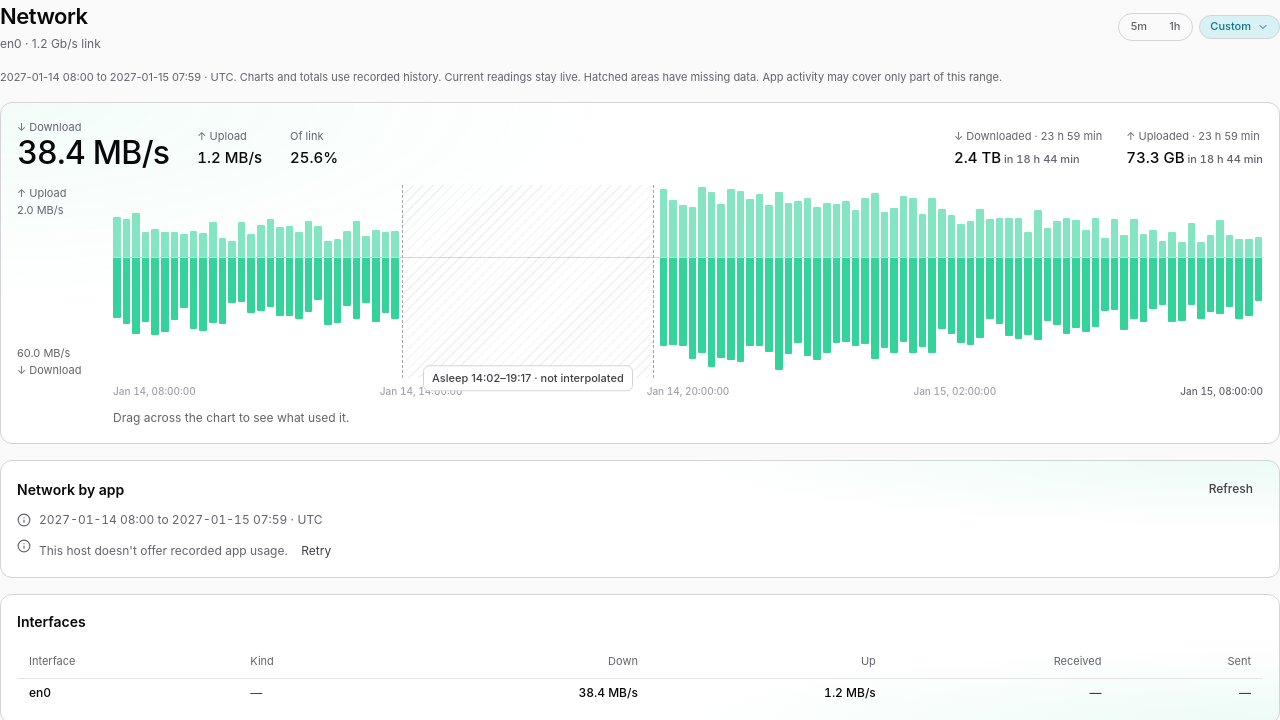
it: a historical remote failure stays explicit and Retry restores the same interval
Expected: the message "This host doesn't offer recorded app usage." is shown, [39,543,288,558]
Step 1. Click the button "Retry" → [316, 551], box [291,537,341,565]
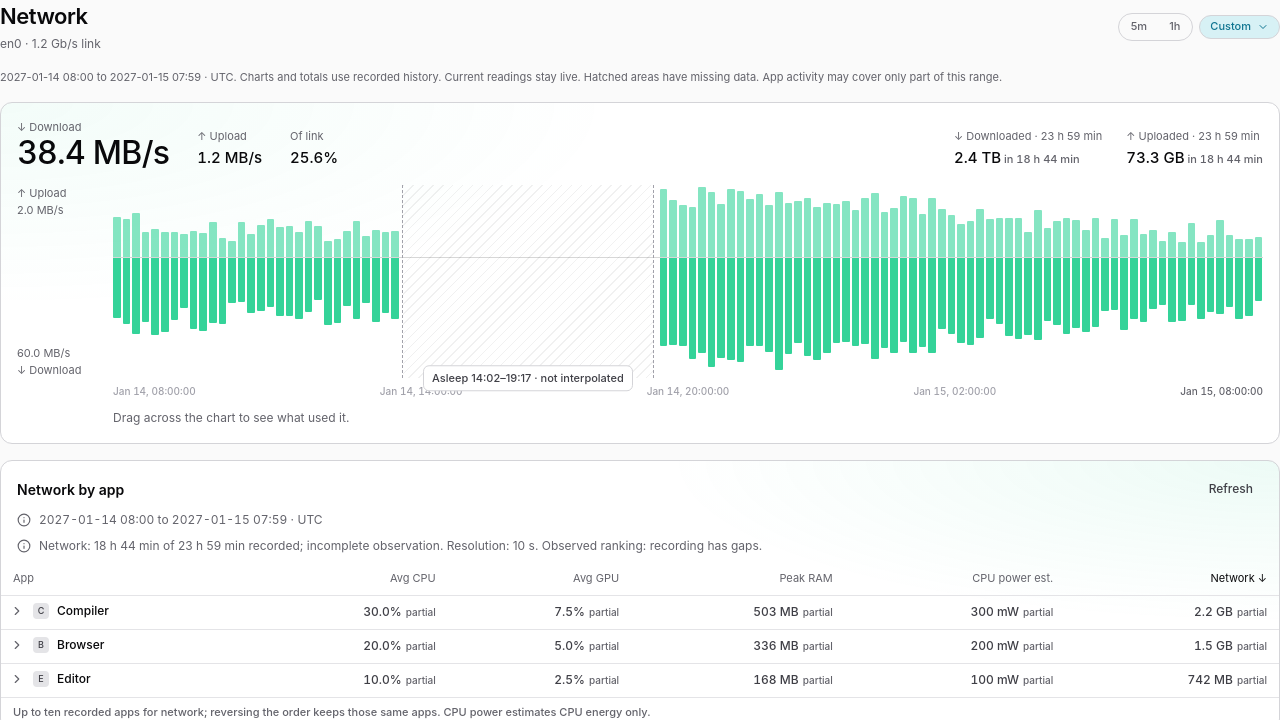
Result: the text "Compiler" is shown at [57,602,109,618]
